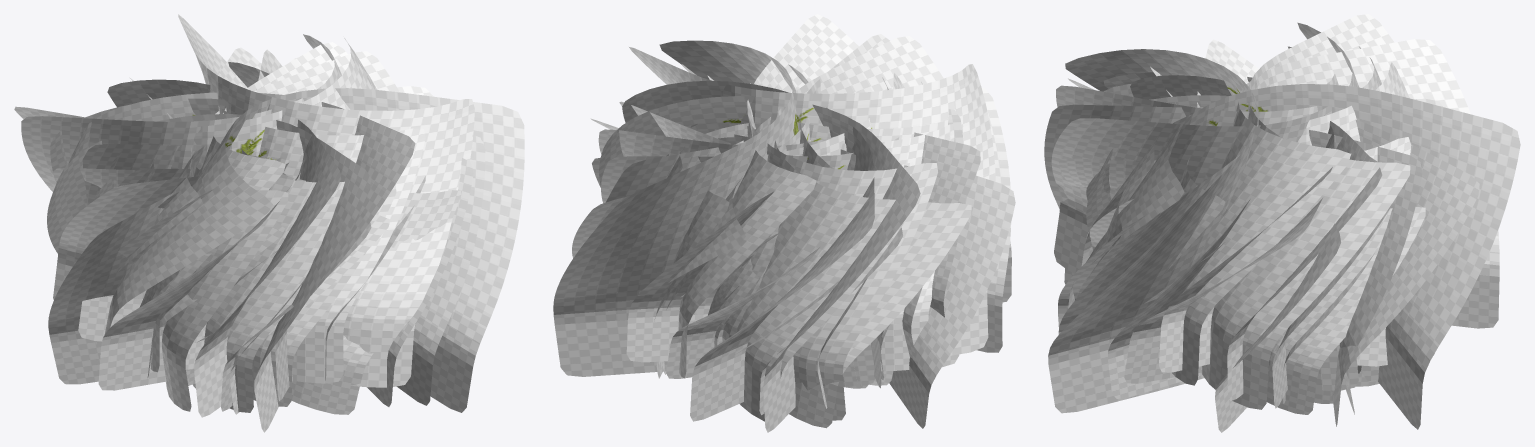
File: mq4_pasto_alto_11.glb
3 renders of one model, left to right at view 1: azimuth 30°, elevation 25°; view 2: azimuth 150°, elevation 25°; view 3: azimuth 270°, elevation 25°, orthographic. The views are drawn at different scales.
Size of the model in its own units: 235 by 150 by 231.
1 material, 1 textured.
